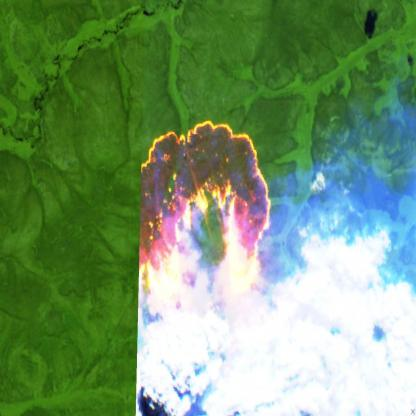fire: (135, 115, 276, 329)
